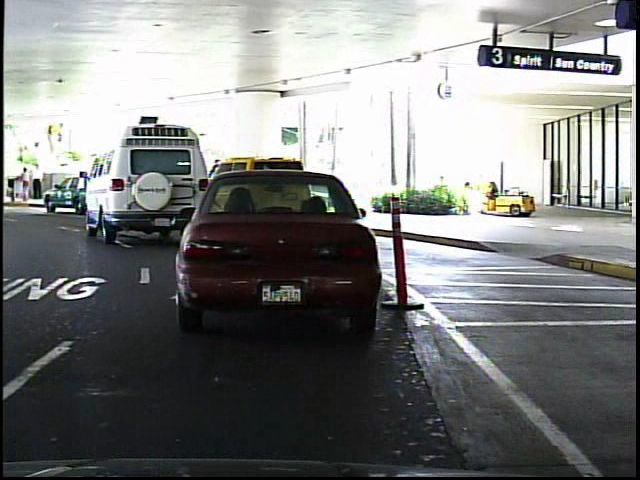person: (19, 166, 35, 205), (32, 160, 47, 201)
